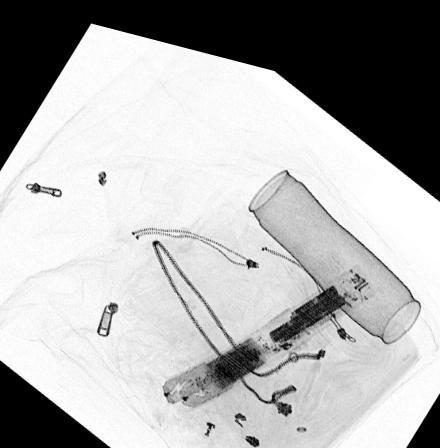Baton: (160, 242, 377, 398)
